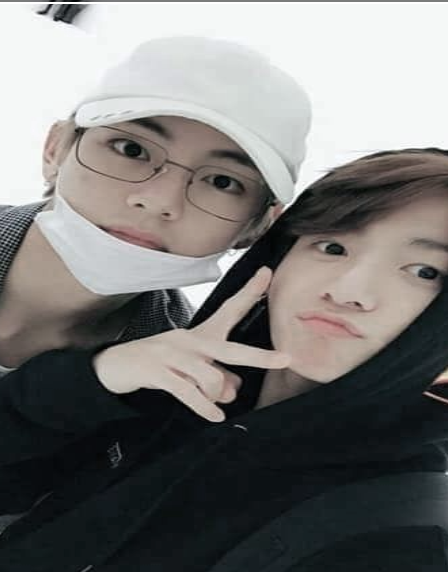mask_weared_incorrect: (44, 33, 306, 299)
